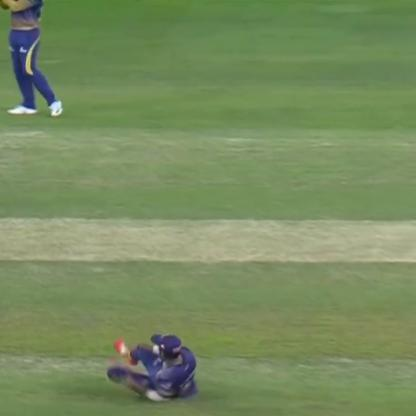ball: (114, 341, 130, 359)
